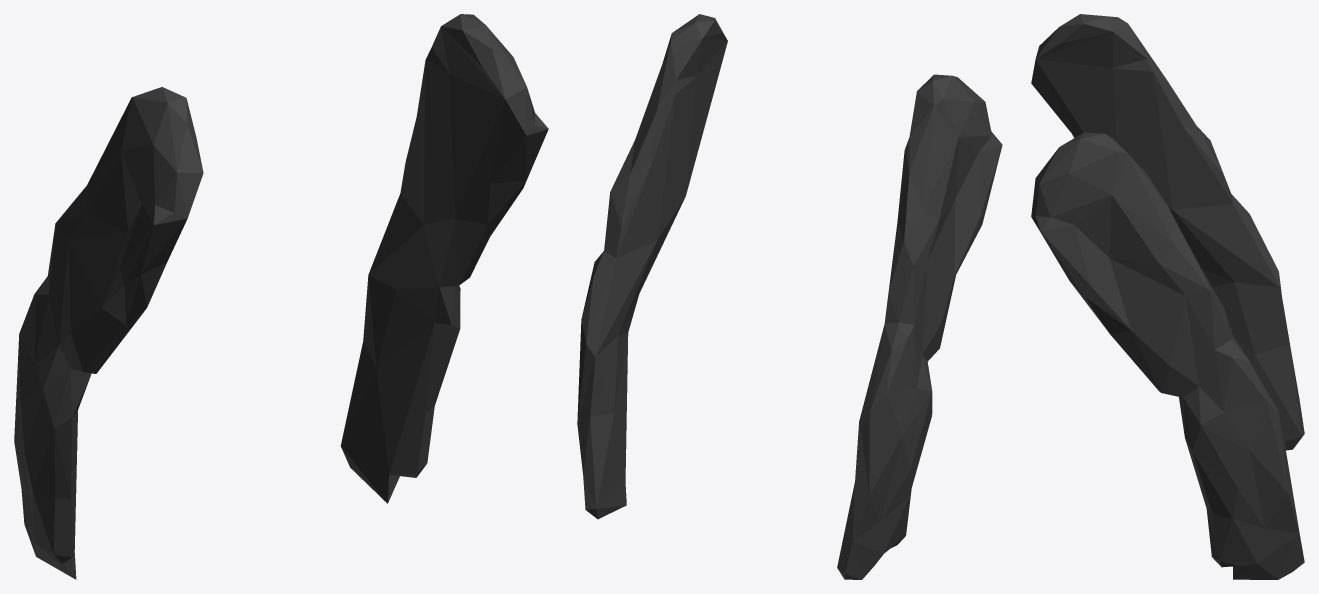
The model's file is gland_parotid.glb.
The picture shows the model from 3 angles, left to right: view 1: azimuth 30°, elevation 25°; view 2: azimuth 150°, elevation 25°; view 3: azimuth 270°, elevation 25°; orthographic projection. The views are drawn at different scales.
Parts seen in each view (by area): view 1: gland_parotid; view 2: gland_parotid; view 3: gland_parotid.
Part boxes in pixels (x1,y1,x2,y2): gland_parotid: (14, 14, 548, 579); gland_parotid: (577, 14, 1002, 579); gland_parotid: (1031, 14, 1304, 579).
Bounding box in the file's own units: 0.00285 × 0.00358 × 0.002.
Materials: 1 (1 with a texture image).
